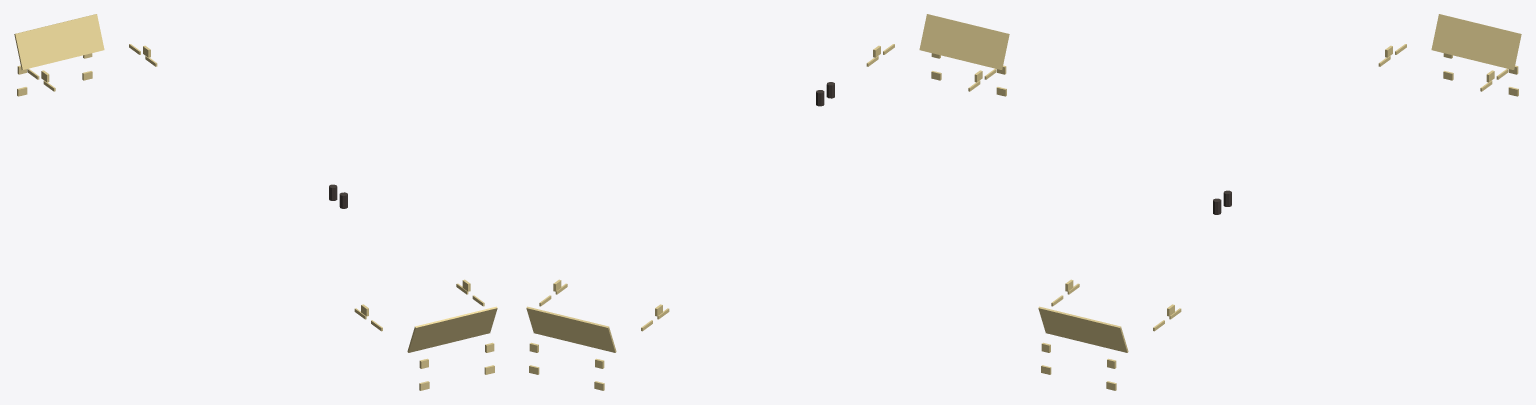
The model's file is SM_Locomotora_Cercana_LOD1.fbx.
The picture shows the model from 3 angles, left to right: view 1: azimuth 30°, elevation 25°; view 2: azimuth 150°, elevation 25°; view 3: azimuth 330°, elevation 25°; orthographic projection.
Parts seen in each view (by area): view 1: Emision; view 2: Emision; view 3: Emision.
Boxes of the visible parts, x1,y1,x2,y2 form: Emision: (14,14,497,390); Emision: (526,14,1009,390); Emision: (1038,14,1521,390).
Size of what is drawn, in the model's own units: 3.34 by 2.83 by 22.47.
